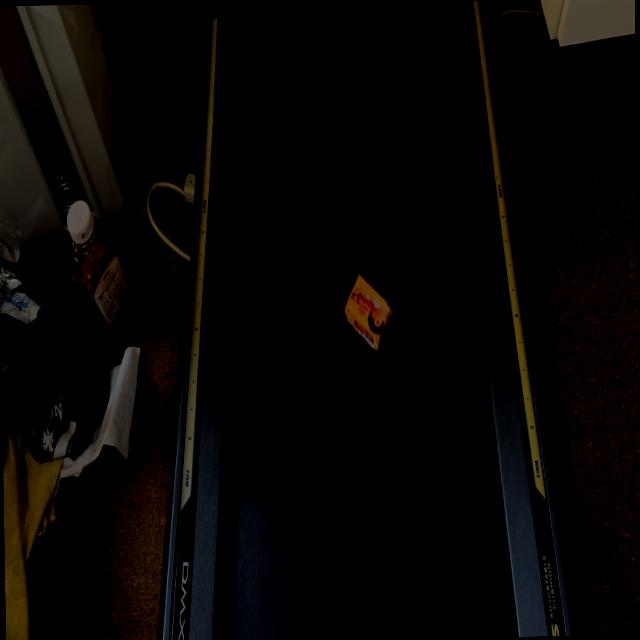Trash: (343, 273, 398, 348)
